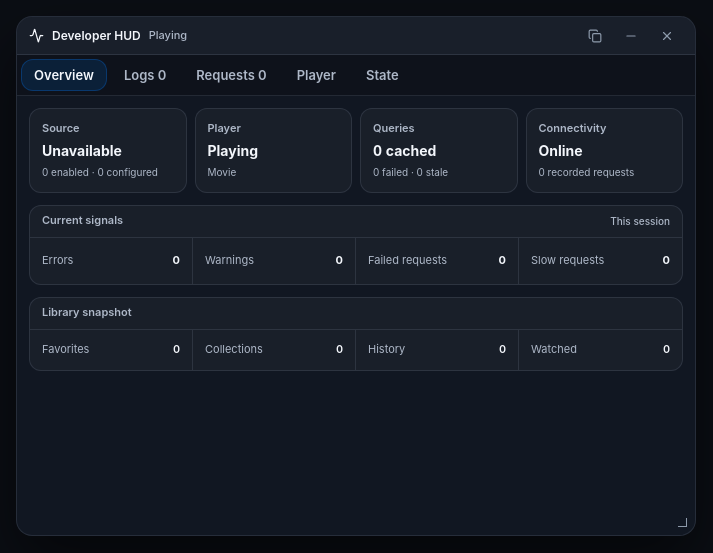
Scenario: Developer HUD › shows bounded native playback quality and pipeline diagnostics
What coordinates should you click on to do the following:
click the tab "Player"
I would click on:
 (316, 75)
Its box is [284, 59, 349, 91].
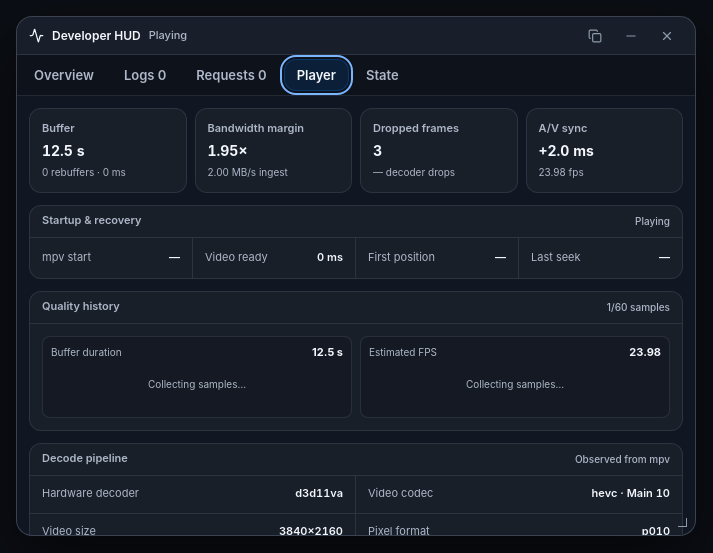
Result: the text "12.5 s" is shown 2 times at [42, 142, 84, 159]; [312, 345, 343, 361]
Result: the text "d3d11va" is shown at [295, 486, 343, 502]
Result: the text "3840×2160" is shown at [279, 524, 343, 535]
